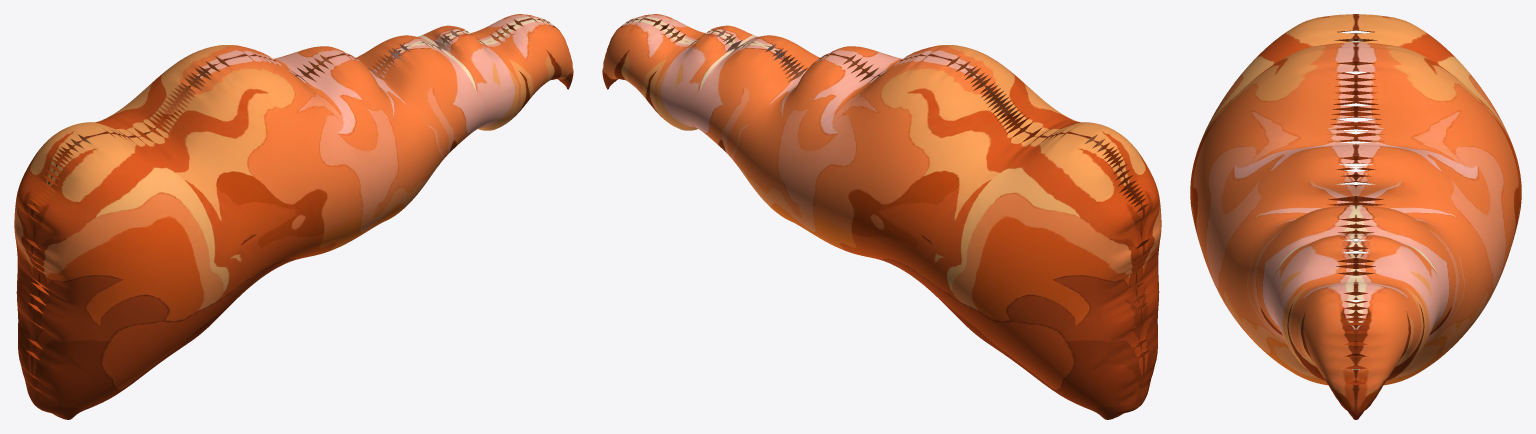
Rendered from north_cliff.glb.
The picture shows the model from 3 angles, left to right: view 1: azimuth 30°, elevation 25°; view 2: azimuth 150°, elevation 25°; view 3: azimuth 270°, elevation 25°; orthographic projection. The views are drawn at different scales.
Visible parts, largest first — view 1: north_cliff; view 2: north_cliff; view 3: north_cliff.
Boxes of the visible parts, x1,y1,x2,y2 form: north_cliff: (14, 14, 573, 419); north_cliff: (602, 14, 1161, 419); north_cliff: (1190, 14, 1521, 419).
Size of the model in its own units: 0.989 by 0.5398 by 0.3982.
1 material, 1 textured.
